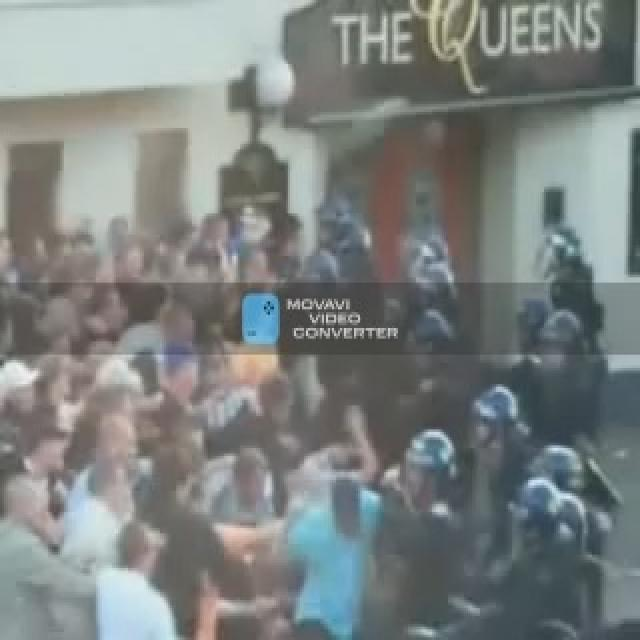non-voilence: (0, 190, 630, 638), (328, 0, 606, 96)
